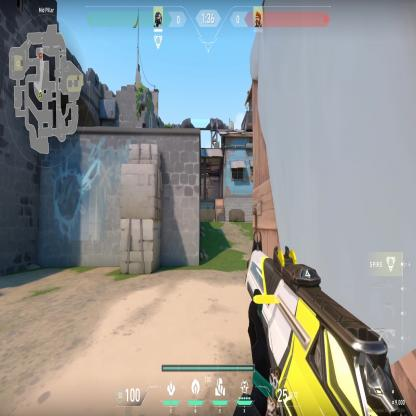enemy: (206, 186, 209, 200)
